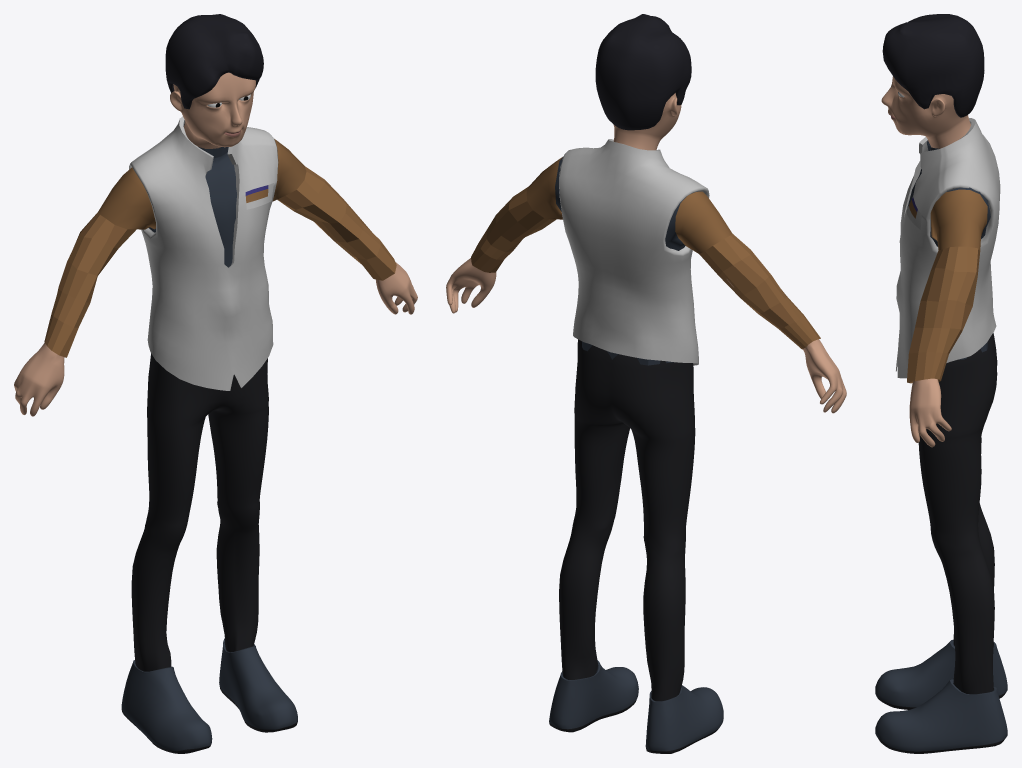
The model's file is TableBoy.fbx.
The picture shows the model from 3 angles, left to right: view 1: azimuth 30°, elevation 25°; view 2: azimuth 150°, elevation 25°; view 3: azimuth 270°, elevation 25°; orthographic projection.
Parts seen in each view (by area): view 1: Jacket, Pants, Shirt, Hair, Foot_R, Foot_L, Head, Arm_R, Arm_L; view 2: Pants, Jacket, Shirt, Hair, Foot_L, Foot_R, Arm_R, Arm_L, Head; view 3: Pants, Jacket, Shirt, Hair, Foot_L, Foot_R, Head, Arm_L.
Boxes of the visible parts, x1=… form: Jacket: x1=129, y1=116, x2=278, y2=390; Pants: x1=131, y1=353, x2=268, y2=671; Shirt: x1=44, y1=124, x2=396, y2=357; Hair: x1=165, y1=14, x2=263, y2=109; Foot_R: x1=121, y1=660, x2=212, y2=753; Foot_L: x1=219, y1=638, x2=297, y2=732; Head: x1=170, y1=72, x2=255, y2=148; Arm_R: x1=14, y1=343, x2=64, y2=416; Arm_L: x1=375, y1=262, x2=417, y2=314; Pants: x1=559, y1=339, x2=695, y2=701; Jacket: x1=559, y1=139, x2=709, y2=365; Shirt: x1=471, y1=156, x2=820, y2=365; Hair: x1=595, y1=14, x2=691, y2=130; Foot_L: x1=549, y1=660, x2=638, y2=732; Foot_R: x1=645, y1=685, x2=723, y2=753; Arm_R: x1=726, y1=279, x2=846, y2=413; Arm_L: x1=446, y1=258, x2=496, y2=313; Head: x1=613, y1=93, x2=681, y2=150; Pants: x1=918, y1=333, x2=997, y2=694; Jacket: x1=896, y1=118, x2=1000, y2=378; Shirt: x1=907, y1=140, x2=993, y2=383; Hair: x1=882, y1=14, x2=984, y2=117; Foot_L: x1=875, y1=679, x2=1007, y2=753; Foot_R: x1=875, y1=640, x2=1007, y2=709; Head: x1=881, y1=76, x2=970, y2=148; Arm_L: x1=909, y1=378, x2=951, y2=447.
Size of the model in its own units: 117 by 199 by 33.93.
